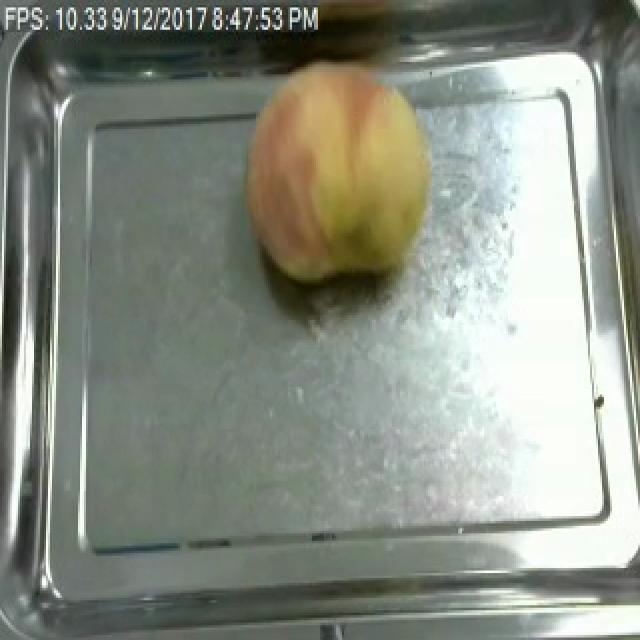Fruit: (232, 50, 446, 298)
